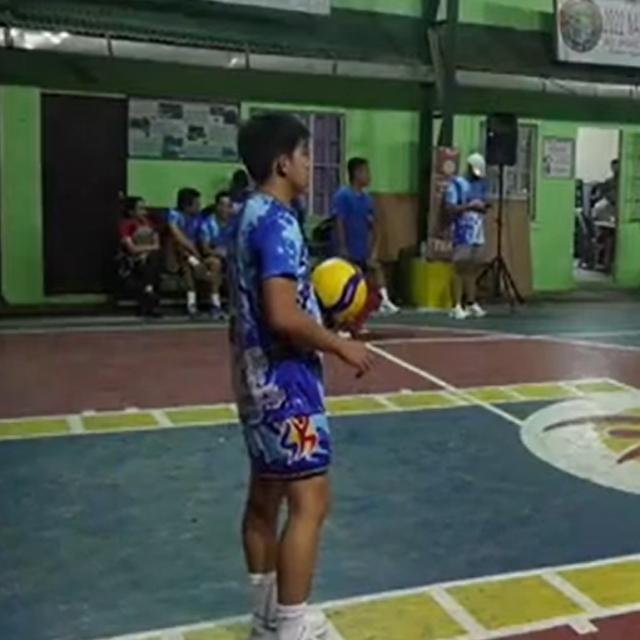volleyball: (312, 257, 366, 327)
